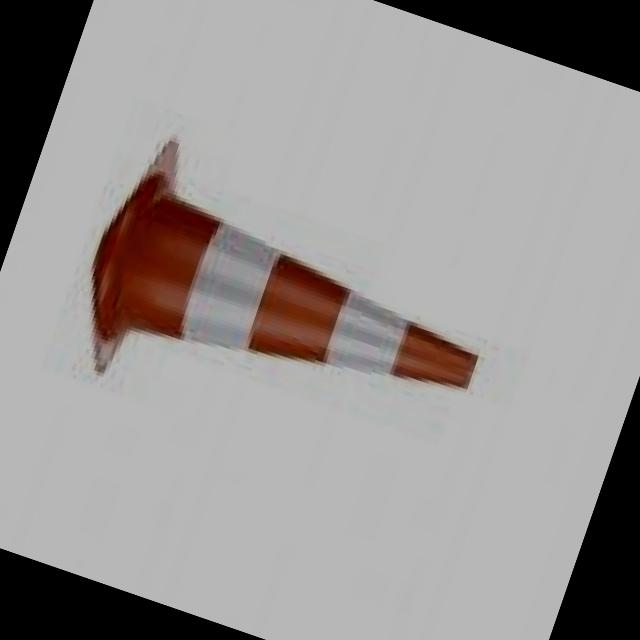cone: (66, 146, 560, 493)
